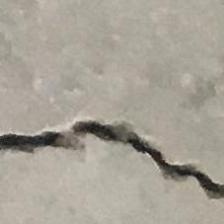Crack: (0, 111, 220, 224)
